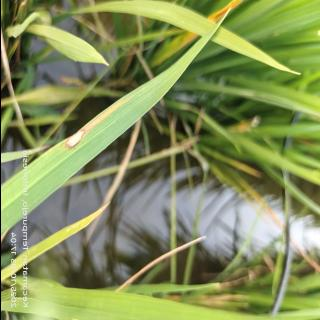Blast: (59, 122, 85, 152)
